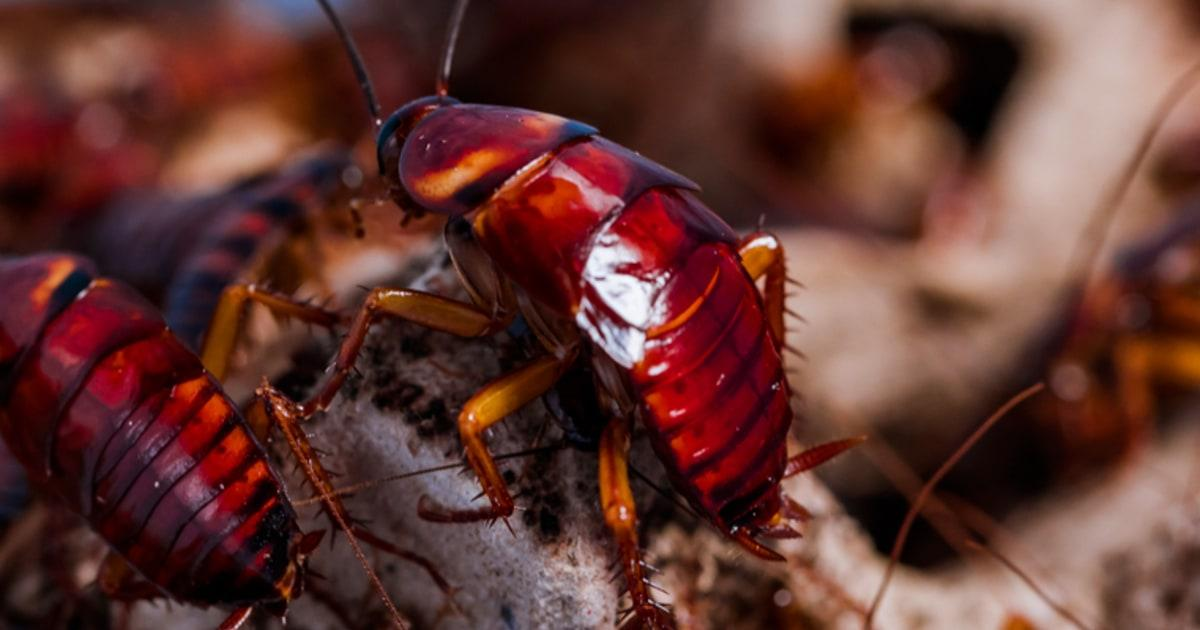cockroach: (304, 78, 810, 624), (0, 239, 353, 630)
